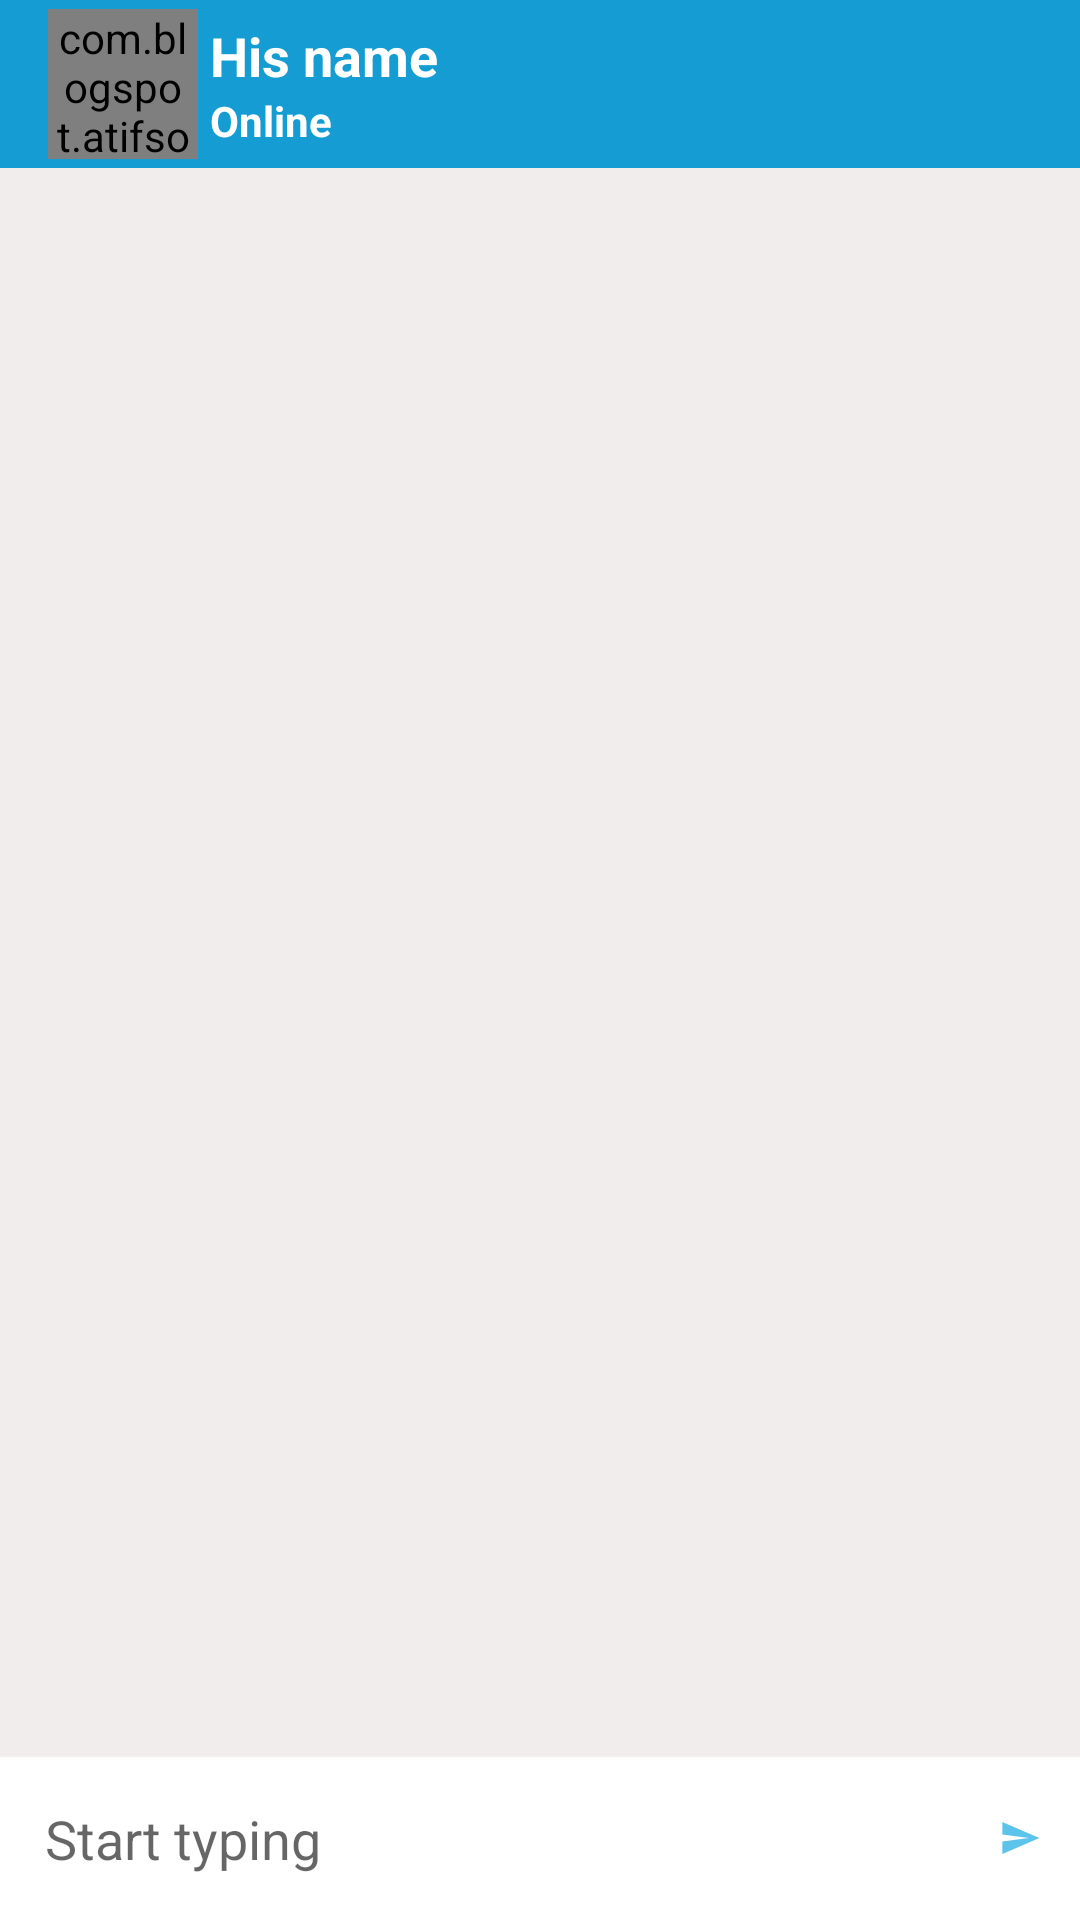

Icons on this 1080px x 1920px Android screen, each with its box as detection(x1, y1, x2, y2):
send: detection(1002, 1822, 1039, 1854)
